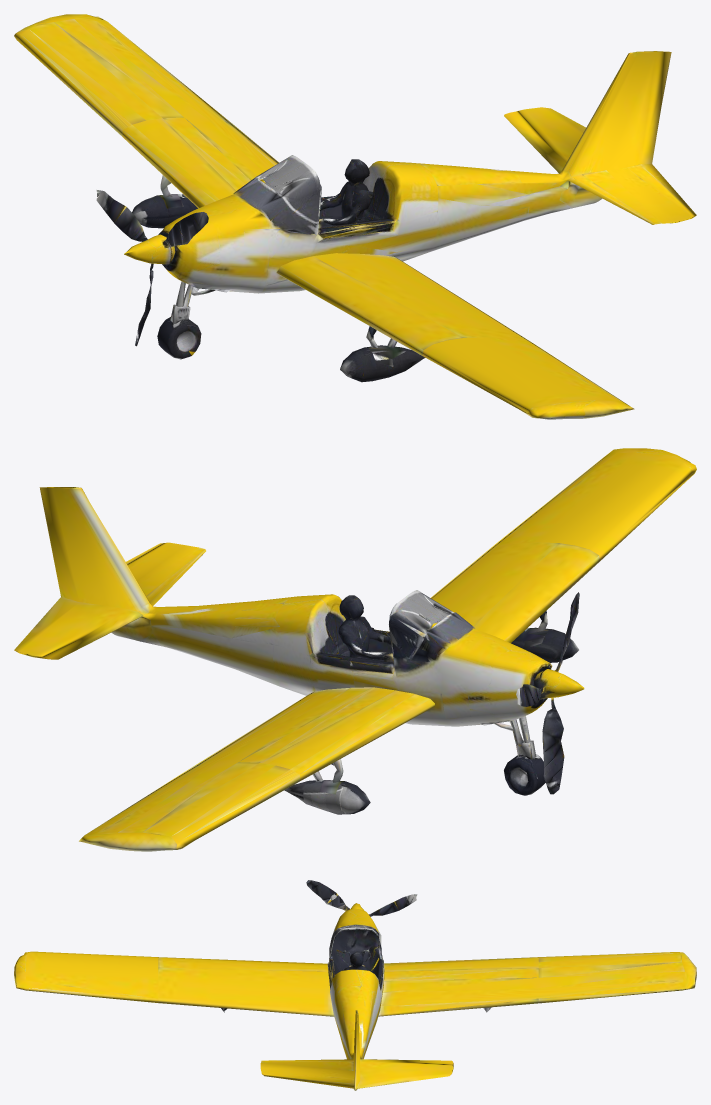
The picture shows the model from 3 angles, top to bottom: view 1: azimuth 30°, elevation 25°; view 2: azimuth 150°, elevation 25°; view 3: azimuth 270°, elevation 25°; orthographic projection. The views are drawn at different scales.
Size of the model in its own units: 0.5602 by 0.1899 by 0.9575.
Materials: 1 (1 with a texture image).
